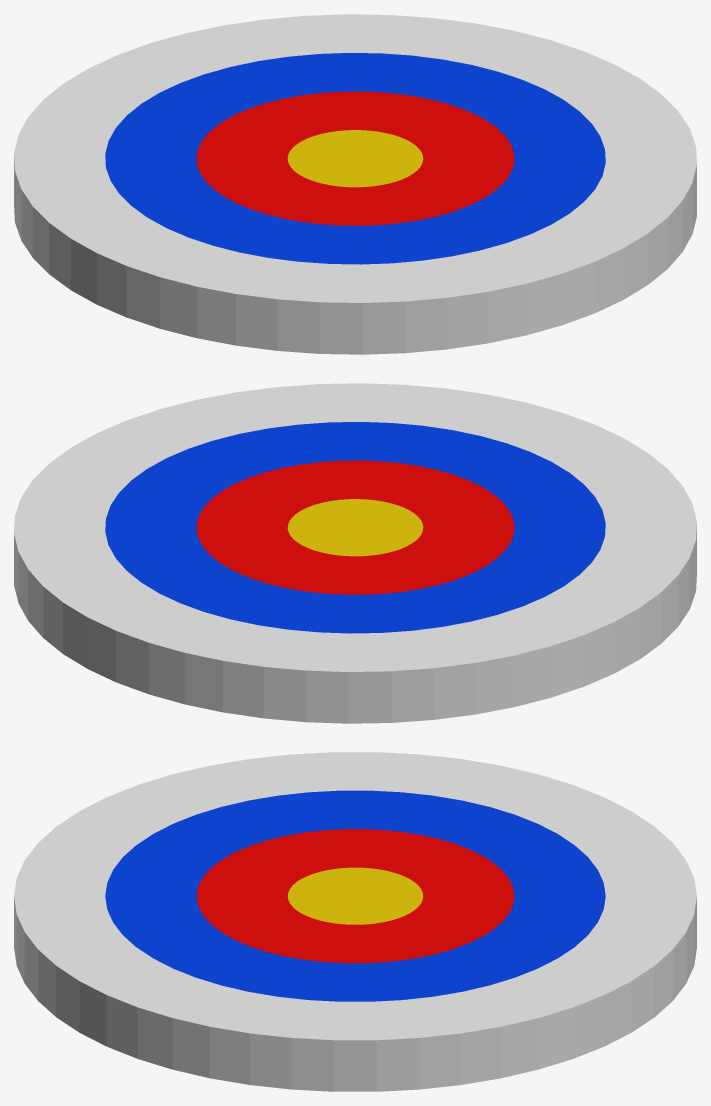
Rendered from cible.fbx.
3 renders of one model, top to bottom at view 1: azimuth 30°, elevation 25°; view 2: azimuth 150°, elevation 25°; view 3: azimuth 270°, elevation 25°, orthographic.
Visible parts, largest first — view 1: Cylinder, Cylinder.001, Cylinder.002, Cylinder.003; view 2: Cylinder, Cylinder.001, Cylinder.002, Cylinder.003; view 3: Cylinder, Cylinder.001, Cylinder.002, Cylinder.003.
Part boxes in pixels (x1,y1,x2,y2): Cylinder: (14, 14, 696, 354); Cylinder.001: (105, 53, 605, 264); Cylinder.002: (196, 91, 514, 225); Cylinder.003: (287, 130, 423, 187); Cylinder: (14, 383, 696, 723); Cylinder.001: (105, 422, 605, 633); Cylinder.002: (196, 460, 514, 594); Cylinder.003: (287, 499, 423, 556); Cylinder: (14, 752, 696, 1091); Cylinder.001: (105, 790, 605, 1001); Cylinder.002: (196, 829, 514, 963); Cylinder.003: (287, 867, 423, 924).
Size of the model in its own units: 299 by 25 by 300.
